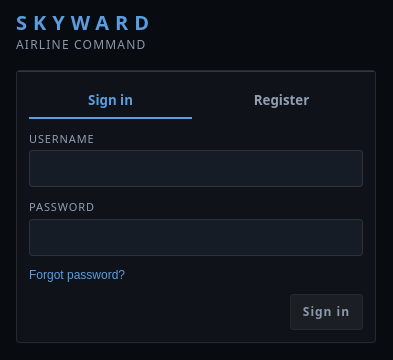
Test case: halaman login — gerbang daftar › tidak memblokir login dengan password pendek (biar server yang menilai)
Type "pilot" into the field labelled "Username" at [196, 169], box [29,150,363,187]
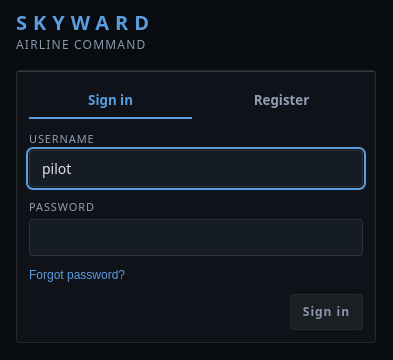
Type "123" into the password field labelled "Password" at [196, 237], box [29,219,363,256]
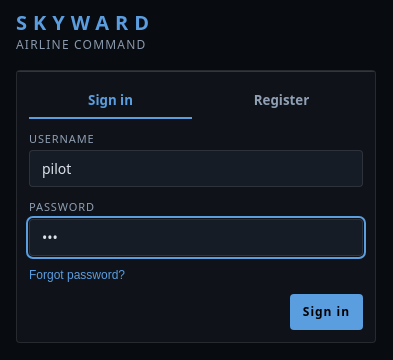
Now the button "Sign in" is enabled, box [290,294,363,330]
